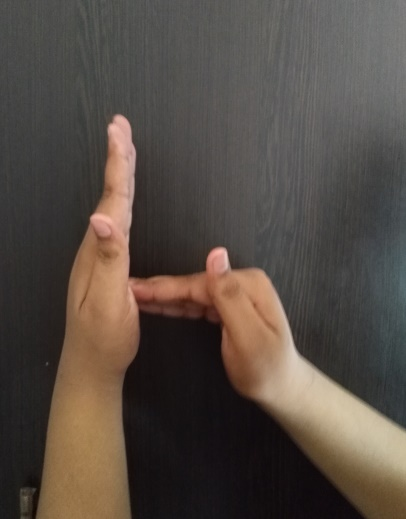ga: (67, 112, 298, 398)
